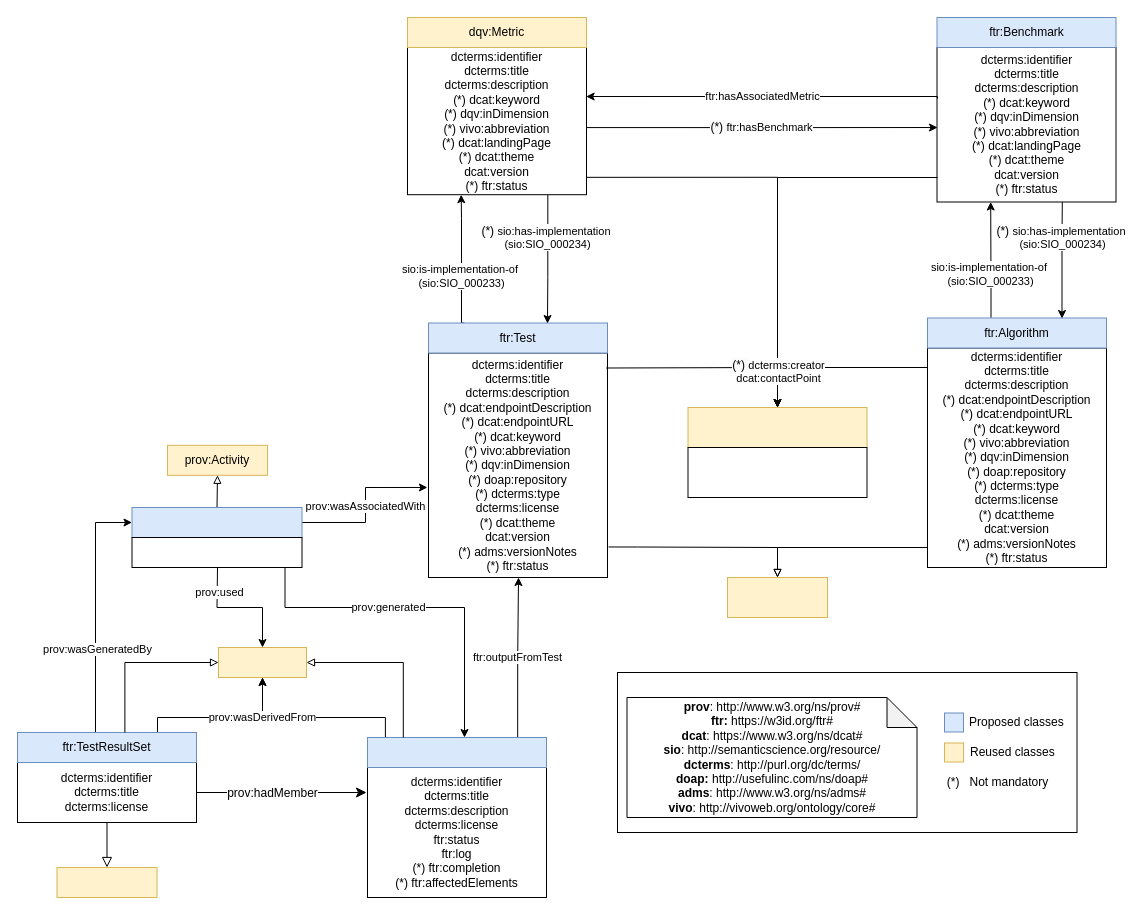
Image size: 1146x915. Some labels were removed from this diagram. The shapes that lost their labels are listed below. From the top down, each one's box as (x1, y1, x2, y2) in pixels, then its label:
(687, 406, 867, 448): vcard:Individual vcard.Organization
(687, 446, 867, 498): vcard:fn vcard:organization-name vcard:hasEmail
(131, 506, 302, 538): ftr:TestExecutionActivity
(726, 576, 828, 618): dcat:DataService prov:Agent
(218, 646, 306, 678): prov:Entity
(366, 736, 546, 768): ftr:TestResult
(56, 866, 157, 898): prov:Collection
